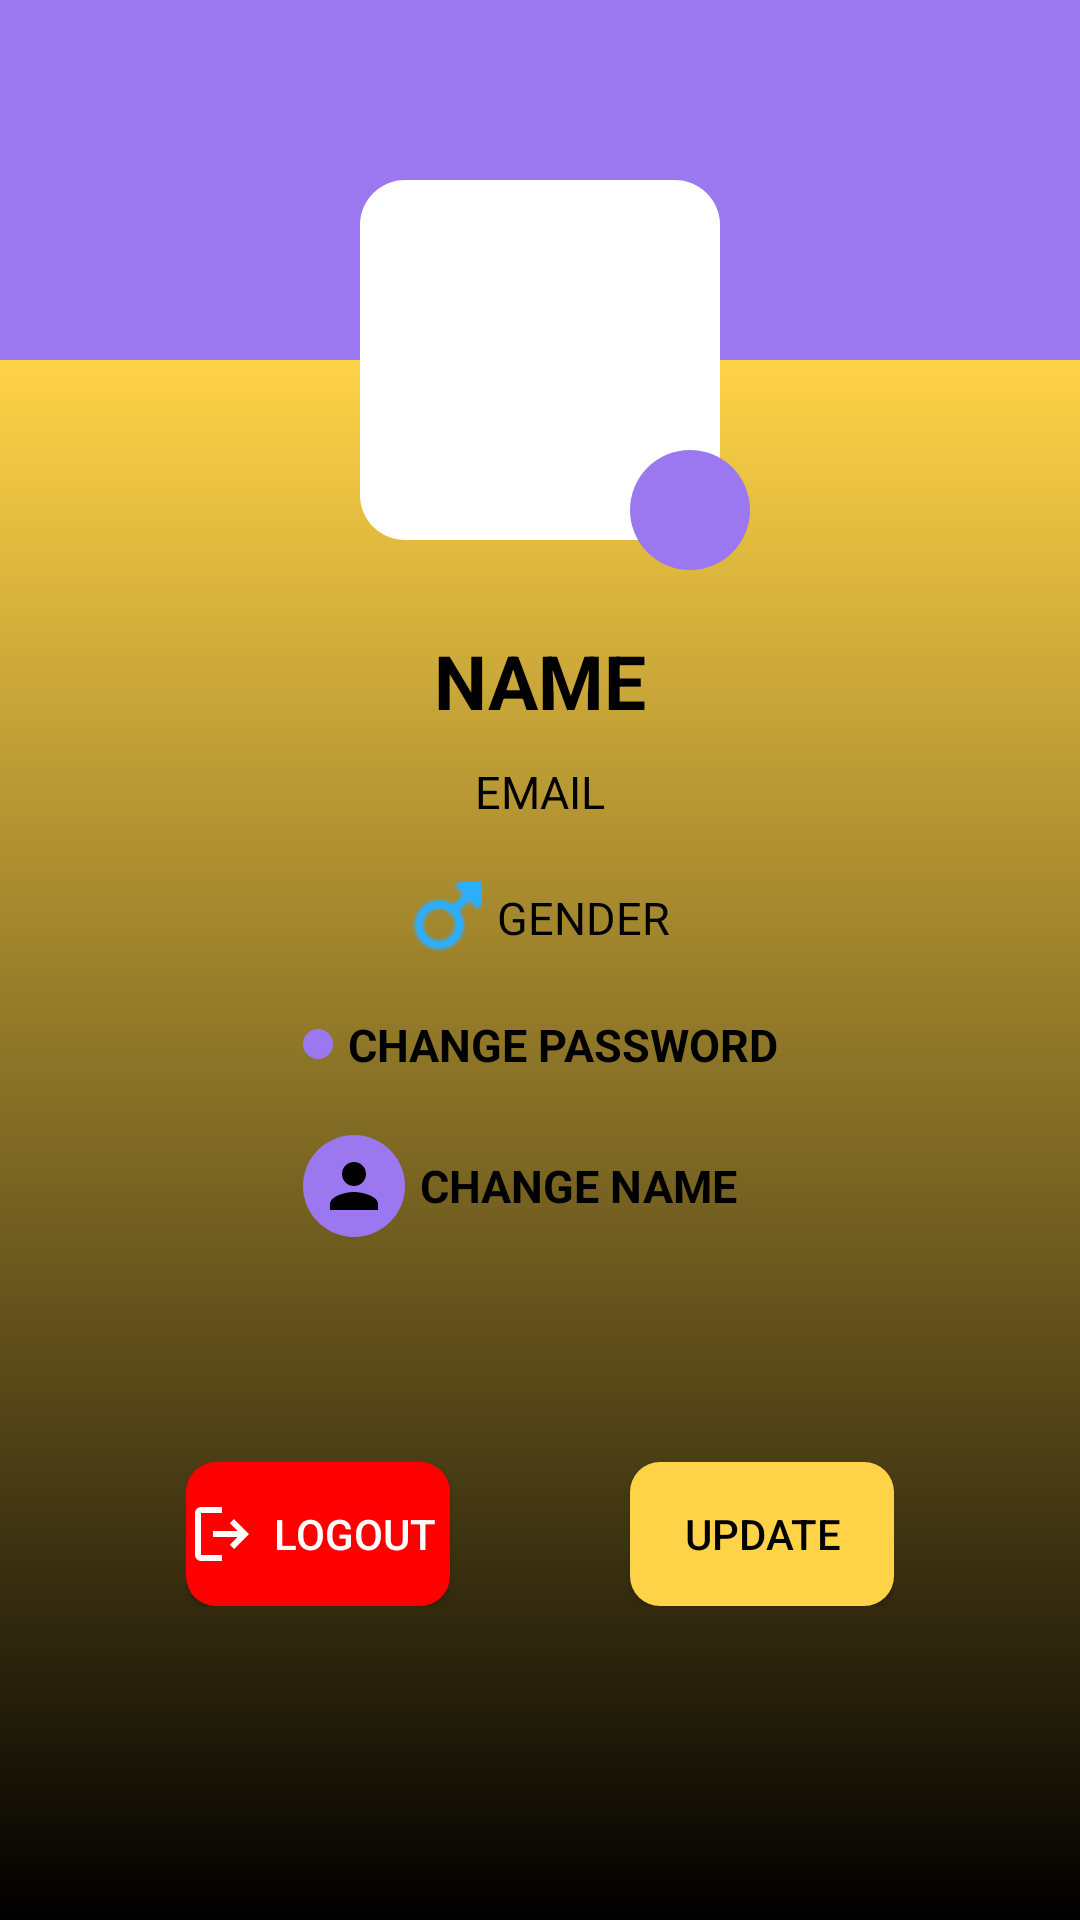

Point at icon controls on the screen. Image size 1080 × 1920, points as point (x, y).
male: point (447, 917)
person: point (354, 1186)
